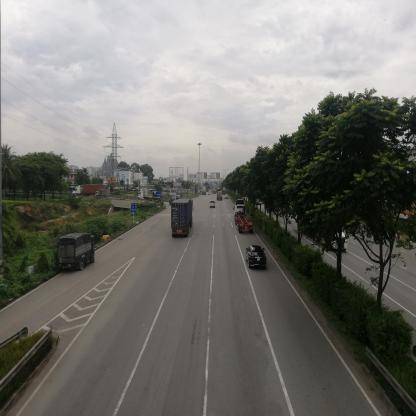car: (246, 243, 268, 272), (210, 202, 217, 209)
container: (172, 201, 194, 240), (72, 185, 106, 196), (238, 202, 250, 232), (138, 190, 153, 199)
truck: (60, 233, 95, 272), (96, 190, 113, 199)
